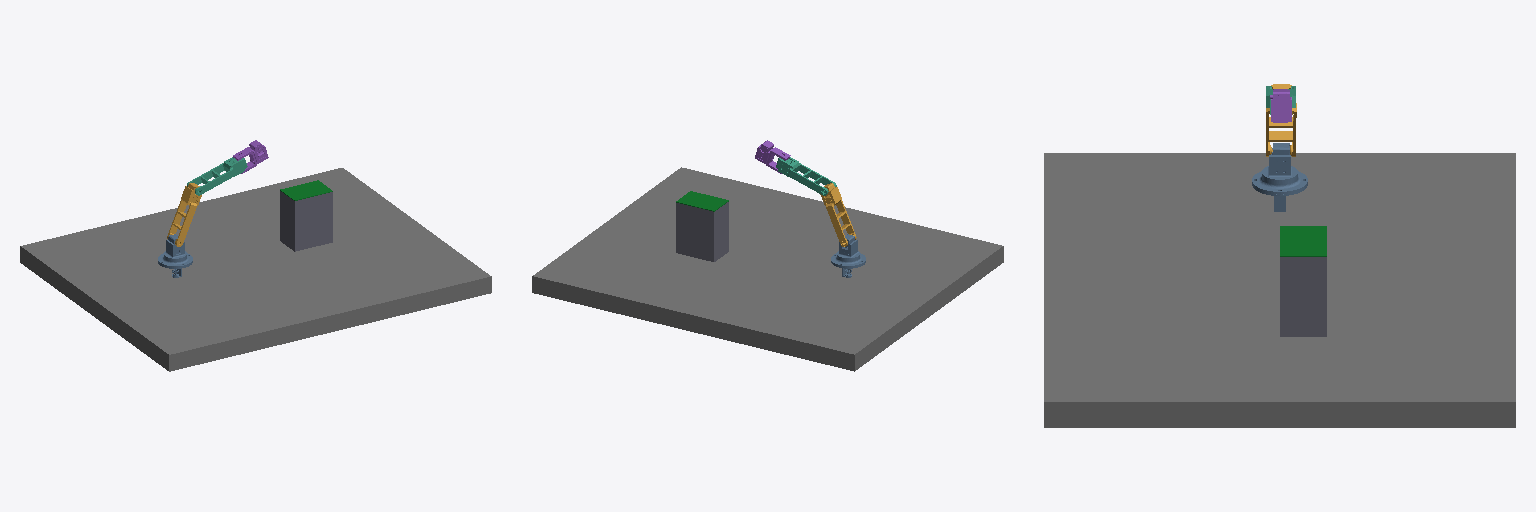
URDF robot description (joint_effort_iron):
<?xml version='1.0' encoding='utf-8'?>
<robot name="joint_effort_iron">
  <link name="base_link">
    <visual>
      <origin xyz="0 0 0" rpy="0 0 0" />
      <geometry>
        <mesh filename="package://joint_effort_arm_draft_description/meshes/base_link.stl" scale="1 1 1" />
      </geometry>
      <material name="cad_color_0">
        <color rgba=".3 .4 .5 1" />
      </material>
    </visual>
    <collision>
      <origin xyz="0 0 0" rpy="0 0 0" />
      <geometry>
        <mesh filename="package://joint_effort_iron/meshes/base_link_hull.stl" scale="1 1 1" />
      </geometry>
    </collision>
  </link>
  <link name="base_rotation_link">
    <visual>
      <origin xyz="0 0 0" rpy="0 0 0" />
      <geometry>
        <mesh filename="package://joint_effort_arm_draft_description/meshes/base_rotation_link.stl" scale="1 1 1" />
      </geometry>
      <material name="cad_color_1">
        <color rgba=".4 .5 .6 1" />
      </material>
    </visual>
    <collision>
      <origin xyz="0 0 0" rpy="0 0 0" />
      <geometry>
        <mesh filename="package://joint_effort_iron/meshes/base_rotation_link_hull.stl" scale="1 1 1" />
      </geometry>
    </collision>
  </link>
  <link name="upper_arm_link">
    <visual>
      <origin xyz="0 0 0" rpy="0 0 0" />
      <geometry>
        <mesh filename="package://joint_effort_arm_draft_description/meshes/upper_arm_link.stl" scale="1 1 1" />
      </geometry>
      <material name="cad_color_2">
        <color rgba=".85 .65 .3 1" />
      </material>
    </visual>
    <collision>
      <origin xyz="0 0 0" rpy="0 0 0" />
      <geometry>
        <mesh filename="package://joint_effort_iron/meshes/upper_arm_link_hull.stl" scale="1 1 1" />
      </geometry>
    </collision>
  </link>
  <link name="forearm_link">
    <visual>
      <origin xyz="0 0 0" rpy="0 0 0" />
      <geometry>
        <mesh filename="package://joint_effort_arm_draft_description/meshes/forearm_link.stl" scale="1 1 1" />
      </geometry>
      <material name="cad_color_3">
        <color rgba=".3 .65 .55 1" />
      </material>
    </visual>
    <collision>
      <origin xyz="0 0 0" rpy="0 0 0" />
      <geometry>
        <mesh filename="package://joint_effort_iron/meshes/forearm_link_hull.stl" scale="1 1 1" />
      </geometry>
    </collision>
  </link>
  <link name="wrist_link">
    <visual>
      <origin xyz="0 0 0" rpy="0 0 0" />
      <geometry>
        <mesh filename="package://joint_effort_arm_draft_description/meshes/wrist_link.stl" scale="1 1 1" />
      </geometry>
      <material name="cad_color_4">
        <color rgba=".6 .4 .75 1" />
      </material>
    </visual>
    <collision>
      <origin xyz="0 0 0" rpy="0 0 0" />
      <geometry>
        <mesh filename="package://joint_effort_iron/meshes/wrist_link_hull.stl" scale="1 1 1" />
      </geometry>
    </collision>
  </link>
  <link name="tool_link">
    <visual>
      <origin xyz="0 0 0" rpy="0 0 0" />
      <geometry>
        <mesh filename="package://joint_effort_arm_draft_description/meshes/tool_link.stl" scale="1 1 1" />
      </geometry>
      <material name="cad_color_5">
        <color rgba=".75 .45 .55 1" />
      </material>
    </visual>
    <collision>
      <origin xyz="0 0 0" rpy="0 0 0" />
      <geometry>
        <mesh filename="package://joint_effort_iron/meshes/tool_link_hull.stl" scale="1 1 1" />
      </geometry>
    </collision>
  </link>
  <link name="iron_tip" />
  <joint name="joint_1" type="revolute">
    <parent link="base_link" />
    <child link="base_rotation_link" />
    <origin xyz="0 0 0" rpy="0 -1.1580739072182018E-56 -6.3216048540840731E-49" />
    <axis xyz="0 0 1" />
    <limit lower="-0.52359877559829882" upper="0.52359877559829882" effort=".49" velocity=".15" />
  </joint>
  <joint name="joint_2" type="revolute">
    <parent link="base_rotation_link" />
    <child link="upper_arm_link" />
    <origin xyz="9.902063466515898E-05 0.0017906764257100694 0.089519671278713742" rpy="3.14159265358979 1.5568336927789361 1.5703386760676088" />
    <axis xyz="0 0 1" />
    <limit lower="-0.52359877559829882" upper="0.52359877559829882" effort=".49" velocity=".15" />
  </joint>
  <joint name="joint_3" type="revolute">
    <parent link="upper_arm_link" />
    <child link="forearm_link" />
    <origin xyz="-0.13818731498709236 -0.061032131246577692 -0.00117002602324634" rpy="-0.0055511493273427042 -0.013962418913384145 0.41691073122802685" />
    <axis xyz="0 0 1" />
    <limit lower="-0.52359877559829882" upper="0.52359877559829882" effort=".49" velocity=".15" />
  </joint>
  <joint name="joint_4" type="revolute">
    <parent link="forearm_link" />
    <child link="wrist_link" />
    <origin xyz="-0.10090185466707857 -0.11254335975409219 0.0023867039077365426" rpy="1.5707963267968268 -6.7003694259604174E-17 0.86370432886872928" />
    <axis xyz="0 0 1" />
    <limit lower="-0.52359877559829882" upper="0.52359877559829882" effort=".49" velocity=".15" />
  </joint>
  <joint name="joint_5" type="revolute">
    <parent link="wrist_link" />
    <child link="tool_link" />
    <origin xyz="-0.054788896321058322 0.004525000000396906 -0.018320362543672419" rpy="0 -1.5707963267948966 1.5707963267566107" />
    <axis xyz="0 0 1" />
    <limit lower="-0.52359877559829882" upper="0.52359877559829882" effort=".49" velocity=".15" />
  </joint>
  <joint name="iron_tip_fixed" type="fixed">
    <parent link="tool_link" />
    <child link="iron_tip" />
    <origin xyz="6.7168492989821971E-14 0.14849999812694059 -0.03860000000000019" rpy="-3.1415926535897931 1.1720225484568303E-16 3.1415926535897354" />
  </joint>
  <link name="world" />
  <joint name="iron_mount" type="fixed">
    <parent link="world" />
    <child link="base_link" />
    <origin xyz="0 0 .031" rpy="0 0 3.141592653589793" />
  </joint>
  <link name="iron_tcp" />
  <joint name="iron_tcp_axis" type="fixed">
    <parent link="iron_tip" />
    <child link="iron_tcp" />
    <origin xyz="0 0 0" rpy="0 0 1.5707963267948966" />
  </joint>
  <link name="table">
    <visual>
      <geometry>
        <box size="1.0 0.8 0.05" />
      </geometry>
      <material name="table_color">
        <color rgba=".5 .5 .5 1" />
      </material>
    </visual>
    <collision>
      <geometry>
        <box size="1.0 0.8 0.05" />
      </geometry>
    </collision>
  </link>
  <joint name="table_fixed" type="fixed">
    <parent link="world" />
    <child link="table" />
    <origin xyz="0.25 0 -0.025" rpy="0 0 0" />
  </joint>
  <link name="pcb_fixture">
    <visual>
      <geometry>
        <box size="0.12 0.08 0.15" />
      </geometry>
      <material name="pcb_fixture_color">
        <color rgba=".45 .45 .5 .6" />
      </material>
    </visual>
    <collision>
      <geometry>
        <box size="0.12 0.08 0.15" />
      </geometry>
    </collision>
  </link>
  <joint name="pcb_fixture_fixed" type="fixed">
    <parent link="world" />
    <child link="pcb_fixture" />
    <origin xyz="0.43 0.04 0.075" rpy="0 0 0" />
  </joint>
  <link name="pcb">
    <visual>
      <geometry>
        <box size="0.12 0.08 0.002" />
      </geometry>
      <material name="pcb_color">
        <color rgba=".1 .5 .2 1" />
      </material>
    </visual>
    <collision>
      <geometry>
        <box size="0.12 0.08 0.002" />
      </geometry>
    </collision>
  </link>
  <joint name="pcb_fixed" type="fixed">
    <parent link="world" />
    <child link="pcb" />
    <origin xyz="0.43 0.04 0.151" rpy="0 0 0" />
  </joint>
  <ros2_control name="IronCADMock" type="system">
    <hardware>
      <plugin>mock_components/GenericSystem</plugin>
    </hardware>
    <joint name="joint_1">
      <command_interface name="position" />
      <state_interface name="position">
        <param name="initial_value">0</param>
      </state_interface>
      <state_interface name="velocity" />
    </joint>
    <joint name="joint_2">
      <command_interface name="position" />
      <state_interface name="position">
        <param name="initial_value">0</param>
      </state_interface>
      <state_interface name="velocity" />
    </joint>
    <joint name="joint_3">
      <command_interface name="position" />
      <state_interface name="position">
        <param name="initial_value">0</param>
      </state_interface>
      <state_interface name="velocity" />
    </joint>
    <joint name="joint_4">
      <command_interface name="position" />
      <state_interface name="position">
        <param name="initial_value">0</param>
      </state_interface>
      <state_interface name="velocity" />
    </joint>
    <joint name="joint_5">
      <command_interface name="position" />
      <state_interface name="position">
        <param name="initial_value">0</param>
      </state_interface>
      <state_interface name="velocity" />
    </joint>
  </ros2_control>
</robot>

--- What the picture shows (computed from the rendered views, not written in the file) ---
The picture shows the robot from 3 angles, left to right: view 1: azimuth 30°, elevation 25°; view 2: azimuth 150°, elevation 25°; view 3: azimuth 270°, elevation 25°; orthographic projection.
Robot: joint_effort_iron — 12 links, 11 joints (5 revolute, 6 fixed); root link world; default pose: all joints at 0.
Visible links, largest first — view 1: table, pcb_fixture, upper_arm_link, forearm_link, base_rotation_link, pcb, wrist_link; view 2: table, pcb_fixture, forearm_link, upper_arm_link, base_rotation_link, pcb, wrist_link; view 3: table, pcb_fixture, base_rotation_link, pcb, upper_arm_link, wrist_link.
Boxes of the visible links, x1,y1,x2,y2 form: table: (20, 168, 491, 371); pcb_fixture: (280, 191, 332, 251); upper_arm_link: (167, 183, 201, 246); forearm_link: (187, 157, 247, 195); base_rotation_link: (158, 234, 192, 277); pcb: (280, 180, 332, 200); wrist_link: (233, 140, 268, 173); table: (532, 167, 1003, 371); pcb_fixture: (676, 202, 728, 261); forearm_link: (776, 157, 836, 195); upper_arm_link: (820, 183, 856, 246); base_rotation_link: (831, 234, 865, 277); pcb: (676, 191, 728, 211); wrist_link: (755, 140, 790, 173); table: (1044, 153, 1515, 427); pcb_fixture: (1280, 257, 1326, 336); base_rotation_link: (1252, 143, 1307, 211); pcb: (1280, 226, 1326, 256); upper_arm_link: (1266, 84, 1296, 156); wrist_link: (1270, 89, 1291, 122).
Size in the robot's own frame: 1 by 0.8 by 0.4009 metres.
Meshes: 6 distinct files referenced, 4 mesh visuals loaded (4 binary STL); not drawn: 2 (reference not matched to a file when rendering).
